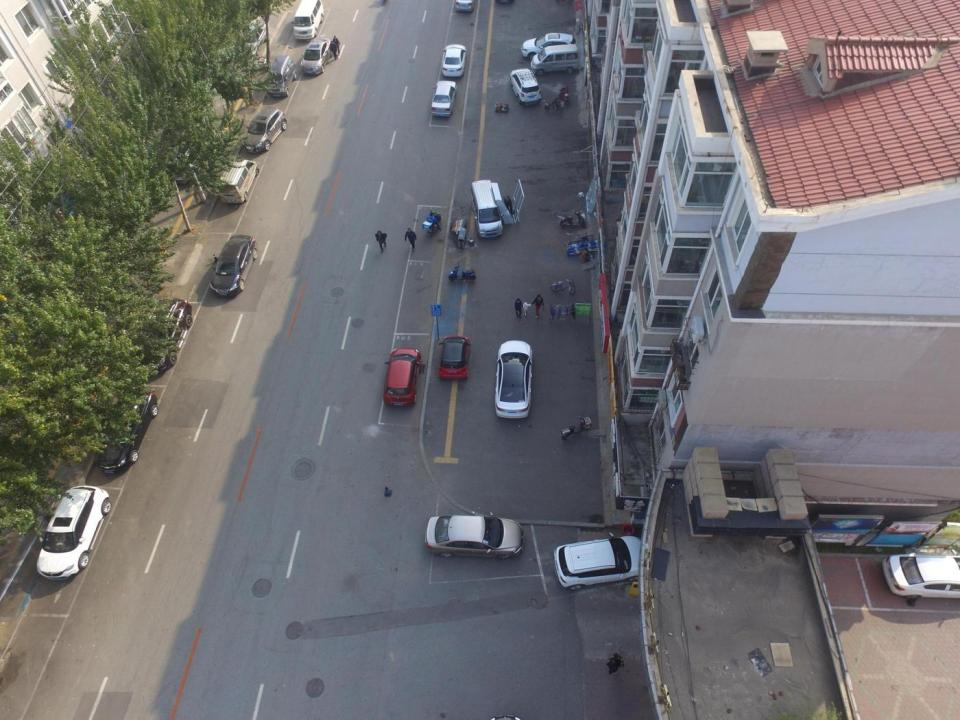car: (36, 485, 111, 581), (553, 532, 651, 592), (94, 388, 158, 475), (424, 511, 524, 560), (140, 297, 194, 375), (881, 548, 960, 599), (494, 340, 534, 420), (210, 234, 258, 298), (382, 348, 422, 408), (241, 106, 288, 154), (521, 31, 576, 60), (438, 334, 472, 380), (509, 68, 542, 107), (300, 39, 332, 76), (430, 80, 457, 119), (442, 44, 468, 79)
van: (470, 179, 504, 240), (217, 158, 259, 205), (530, 45, 578, 76), (265, 54, 297, 98), (292, 0, 325, 40)
